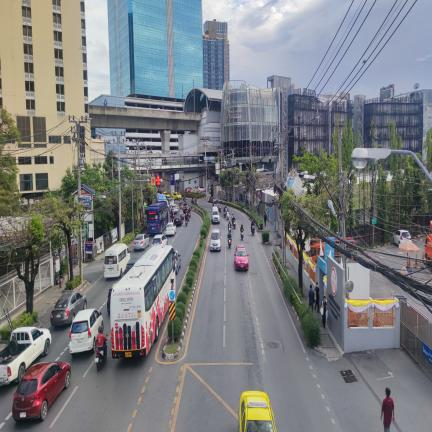bus: (110, 246, 175, 358), (147, 200, 168, 234)
car: (12, 362, 71, 421), (69, 309, 103, 357), (50, 291, 87, 325), (107, 282, 117, 314), (133, 234, 150, 251), (393, 230, 412, 245), (124, 257, 139, 274), (210, 228, 221, 251), (152, 234, 167, 246), (174, 250, 181, 274), (166, 222, 176, 236), (173, 212, 183, 226), (178, 208, 184, 220)
human: (381, 387, 395, 432), (96, 326, 108, 357), (321, 295, 327, 328), (308, 284, 315, 311), (314, 282, 320, 311), (264, 212, 267, 226), (240, 224, 244, 231), (320, 307, 320, 309)
motorbike: (95, 347, 106, 371), (251, 225, 255, 236), (228, 238, 232, 248), (240, 230, 244, 240), (232, 220, 236, 229), (185, 216, 188, 226), (226, 212, 229, 220), (228, 226, 231, 233), (106, 334, 108, 336)
pickup: (0, 327, 51, 385)
taxi: (239, 391, 276, 432), (234, 245, 249, 270)
truck: (424, 221, 432, 260), (211, 206, 220, 223)
van: (104, 243, 130, 278)
